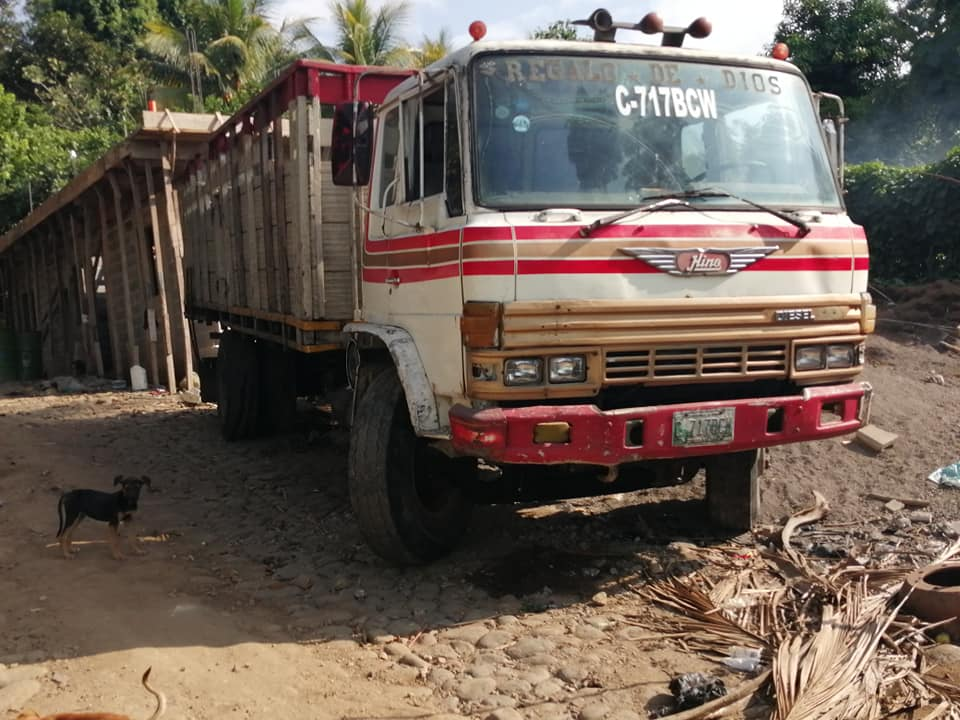camion: (173, 42, 880, 529)
